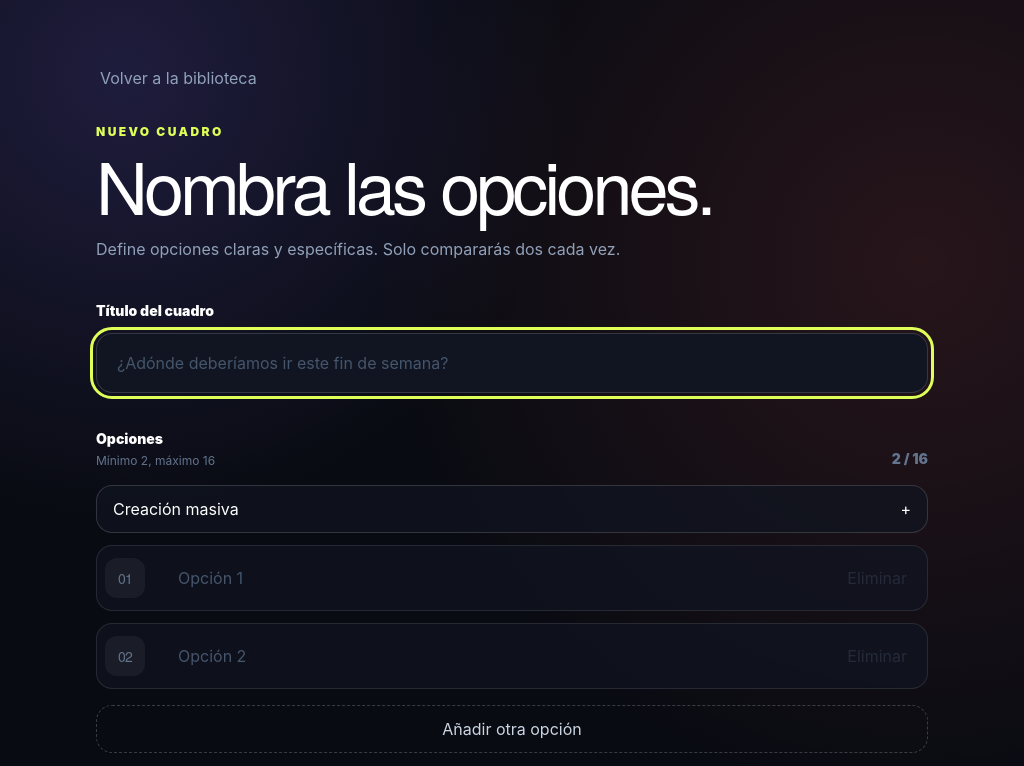
Test: BracketEditor bulk creation disclosure › preserves the entered list after collapsing and reopening
This screenshot has width=1024, height=766.
Click the button "Creación masiva +" at (176, 509), box [96, 485, 928, 533]
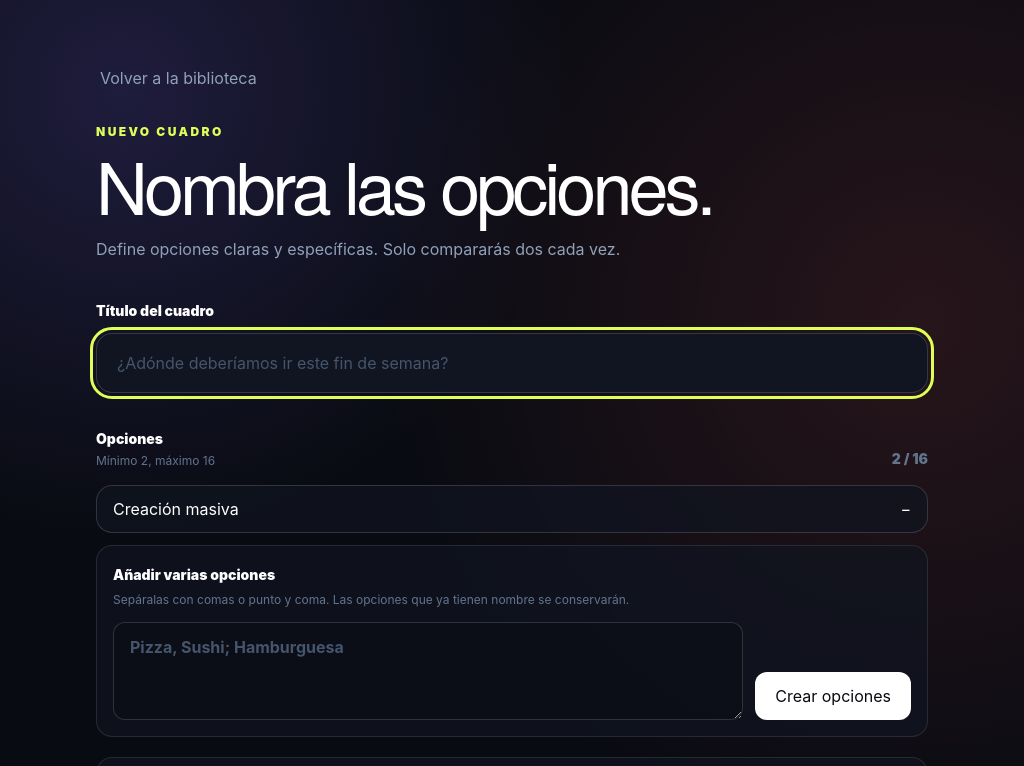
Type "Pizza, Sushi" into the text box labelled "Añadir varias opciones" at (428, 671), box [113, 622, 743, 720]
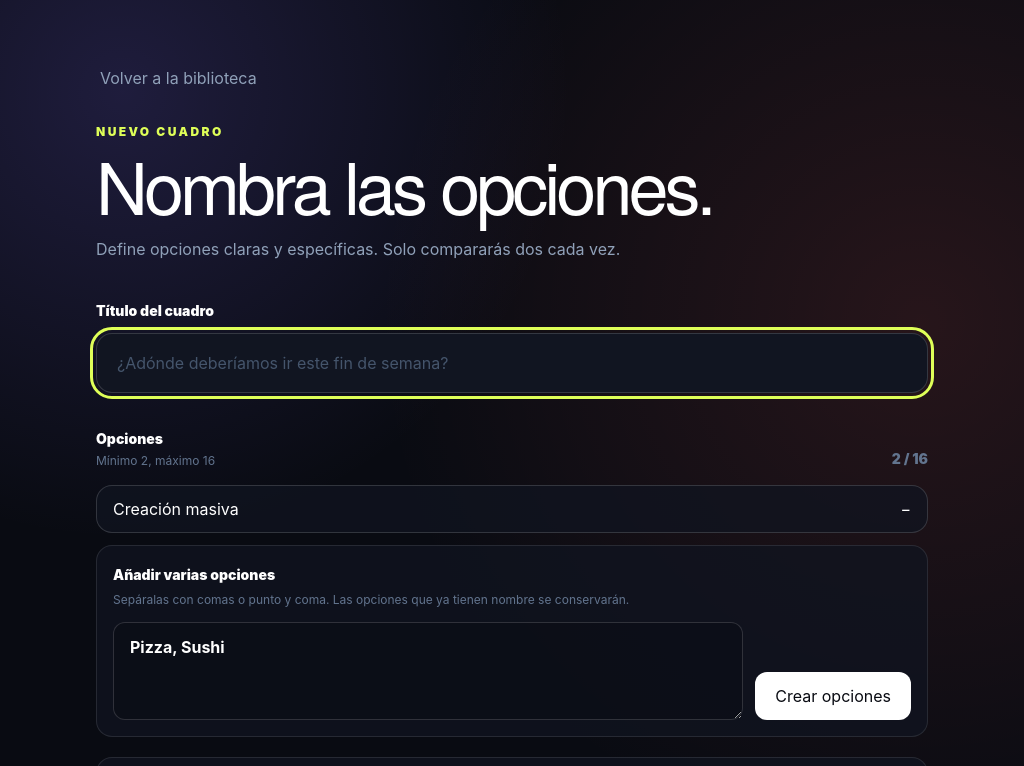
Click the button "Creación masiva −" at (176, 509), box [96, 485, 928, 533]
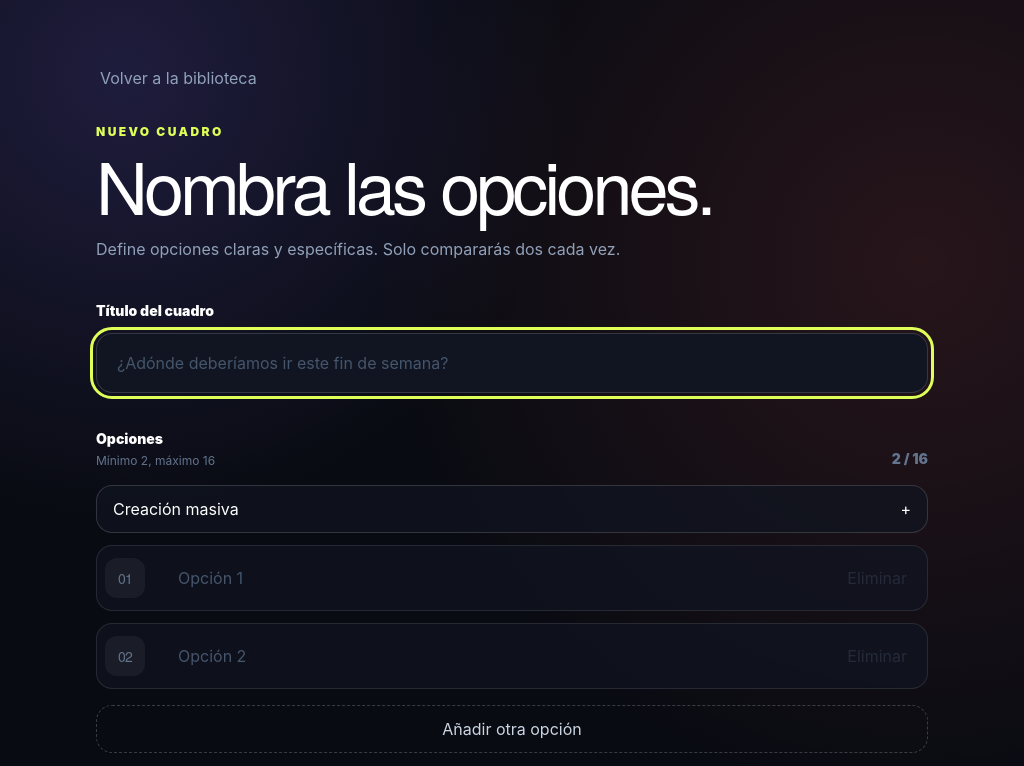
Expected: the label "Añadir varias opciones" is gone
Click the button "Creación masiva +" at (176, 509), box [96, 485, 928, 533]
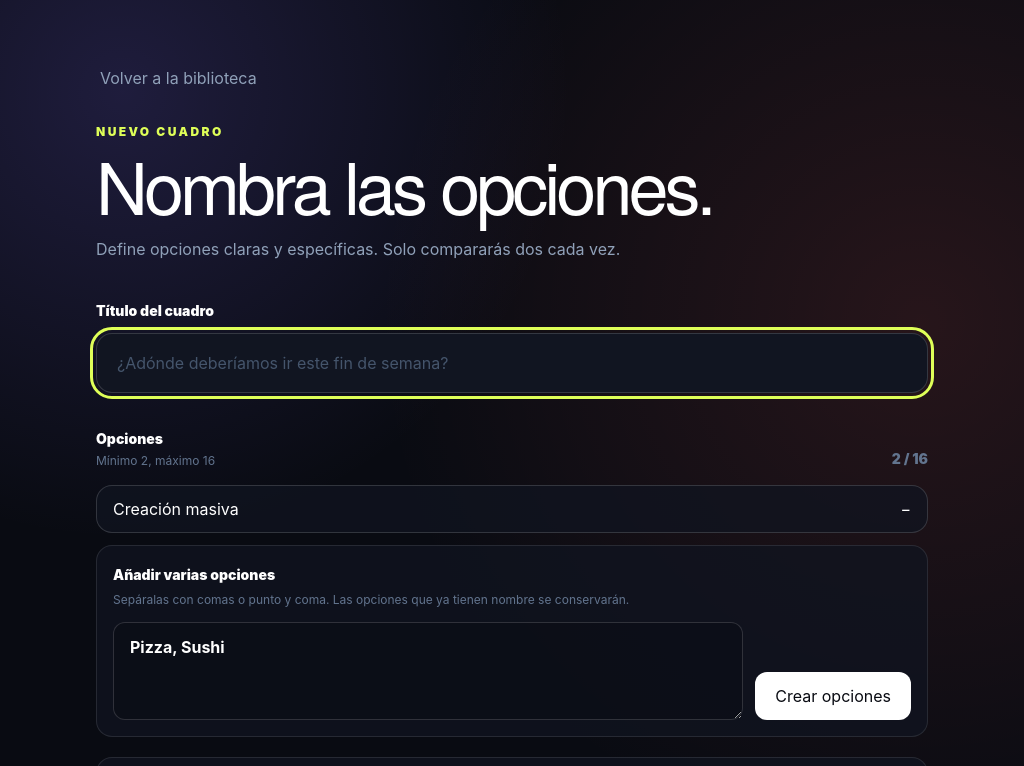
Expected: the text box labelled "Añadir varias opciones" holds "Pizza, Sushi", [113, 622, 743, 720]
